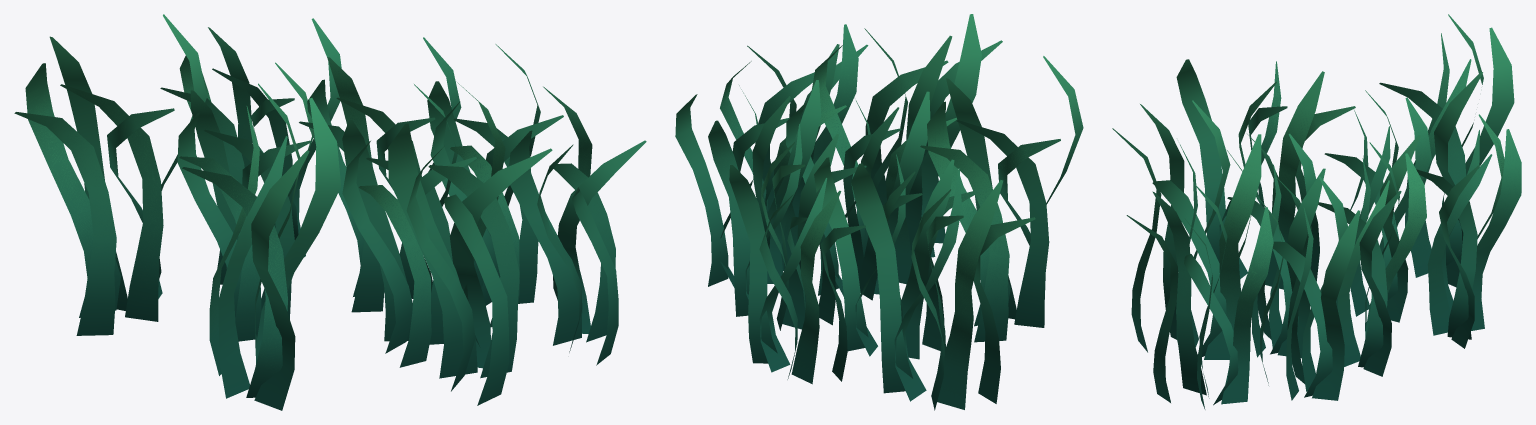
The model's file is SeeWeed_Group.fbx.
3 renders of one model, left to right at view 1: azimuth 30°, elevation 25°; view 2: azimuth 150°, elevation 25°; view 3: azimuth 270°, elevation 25°, orthographic. The views are drawn at different scales.
Visible parts, largest first — view 1: Plane.021; view 2: Plane.021; view 3: Plane.021.
Part boxes in pixels (x1,y1,x2,y2): Plane.021: (14, 14, 646, 410); Plane.021: (675, 14, 1083, 410); Plane.021: (1112, 14, 1521, 409).
Size of the model in its own units: 414 by 221 by 365.
